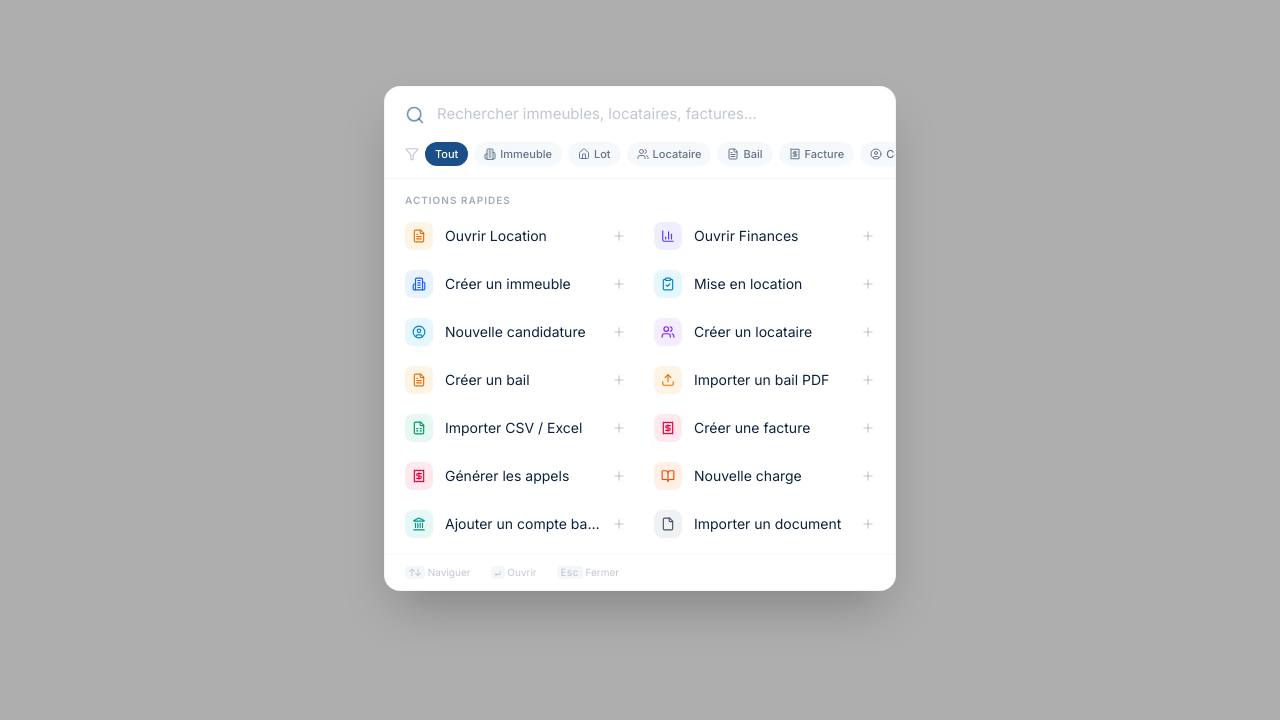
GlobalSearch › filtre les actions rapides depuis la saisie
Type "banque" into the field with placeholder "Rechercher immeubles, locataires, factures...".
click(656, 115); type("banque")  # box left=437, top=103, right=875, bottom=126
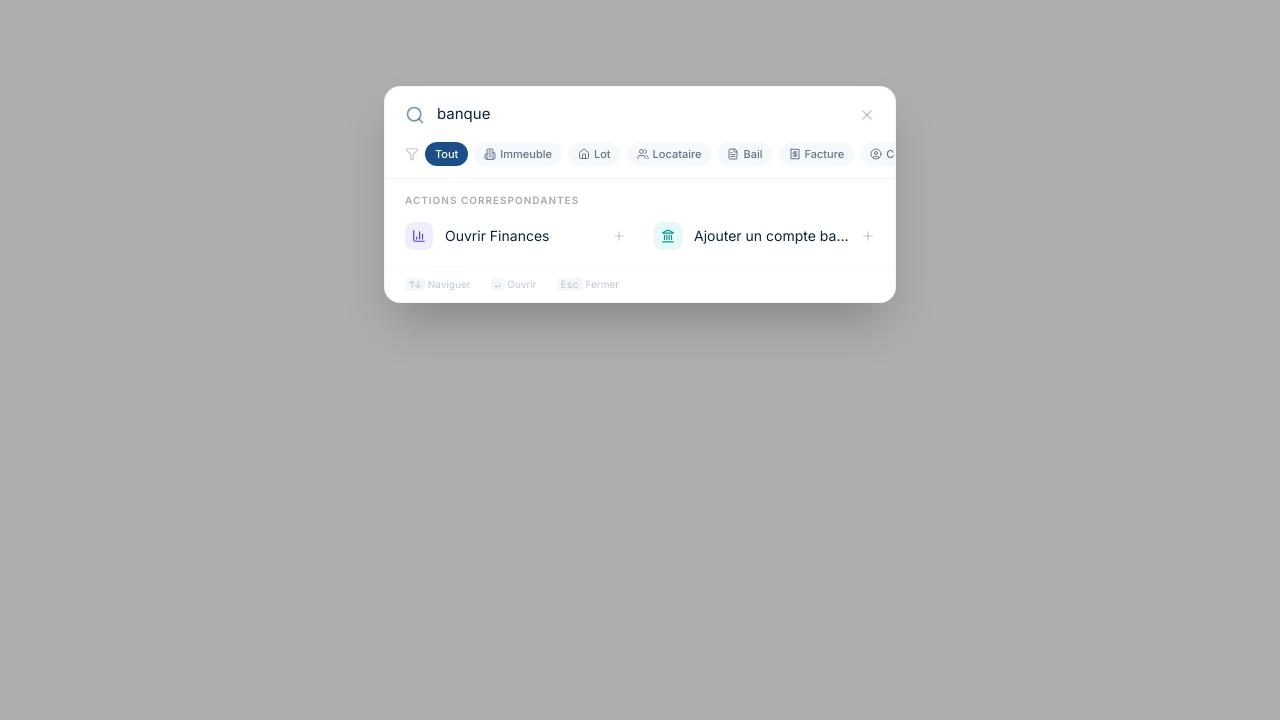
Expected: the button "Ajouter un compte bancaire" is shown, left=642, top=214, right=887, bottom=258
Expected: the text "Actions correspondantes" is shown, left=405, top=194, right=579, bottom=206
Expected: the button "Créer un bail" is gone
